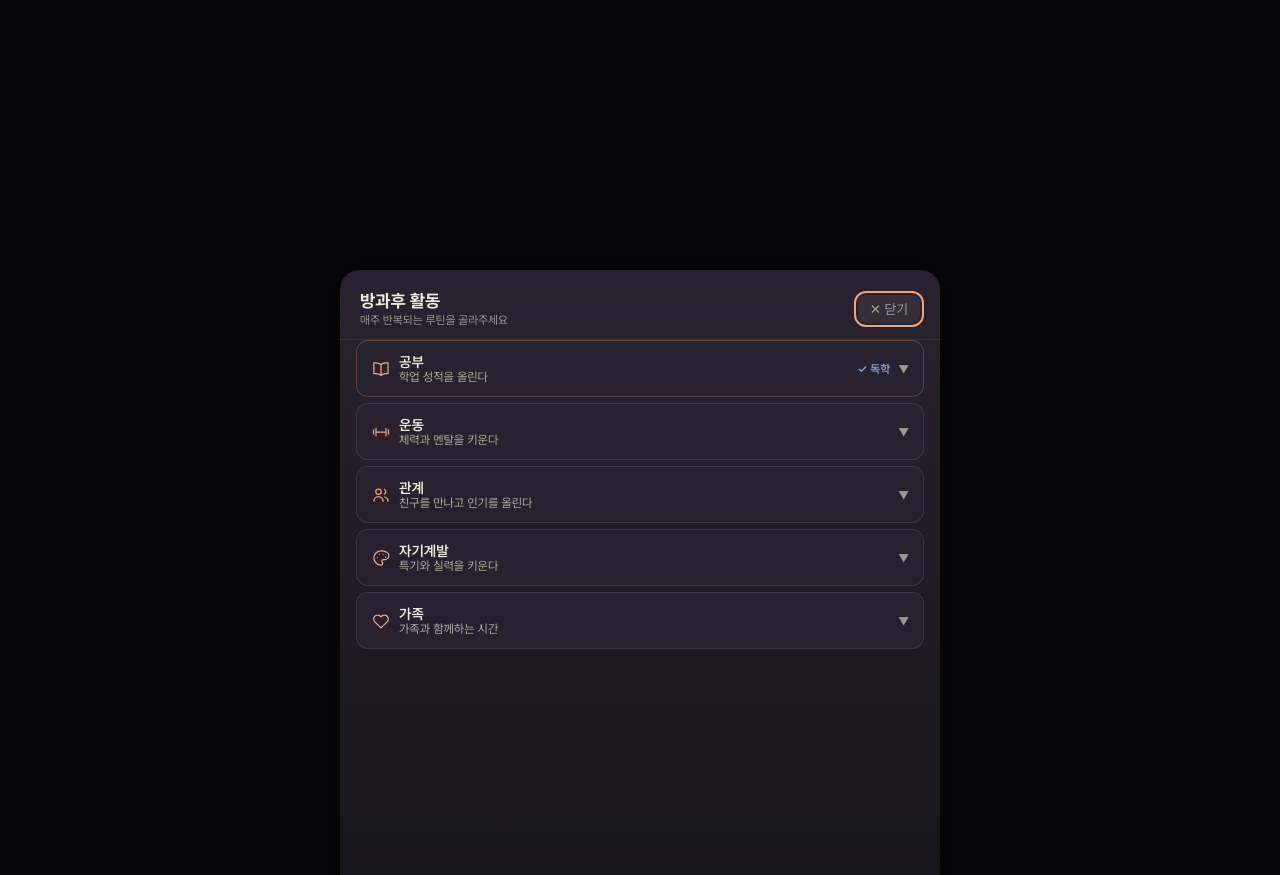
Test: 루틴 피커 — 이 선택 때문에 이번 주를 확정할 수 없게 되면 막는다(엔진 판정, 플래그 꺼짐에도 나가는 경로) › 한 달 몫이 있으면 고를 수 있다
The width and height of the screenshot is (1280, 875).
What coordinates should you click on to do the following:
click the button "공부 학업 성적을 올린다 ✓ 독학 ▼"
I would click on:
 (444, 377)
Its box is [357, 341, 923, 396].
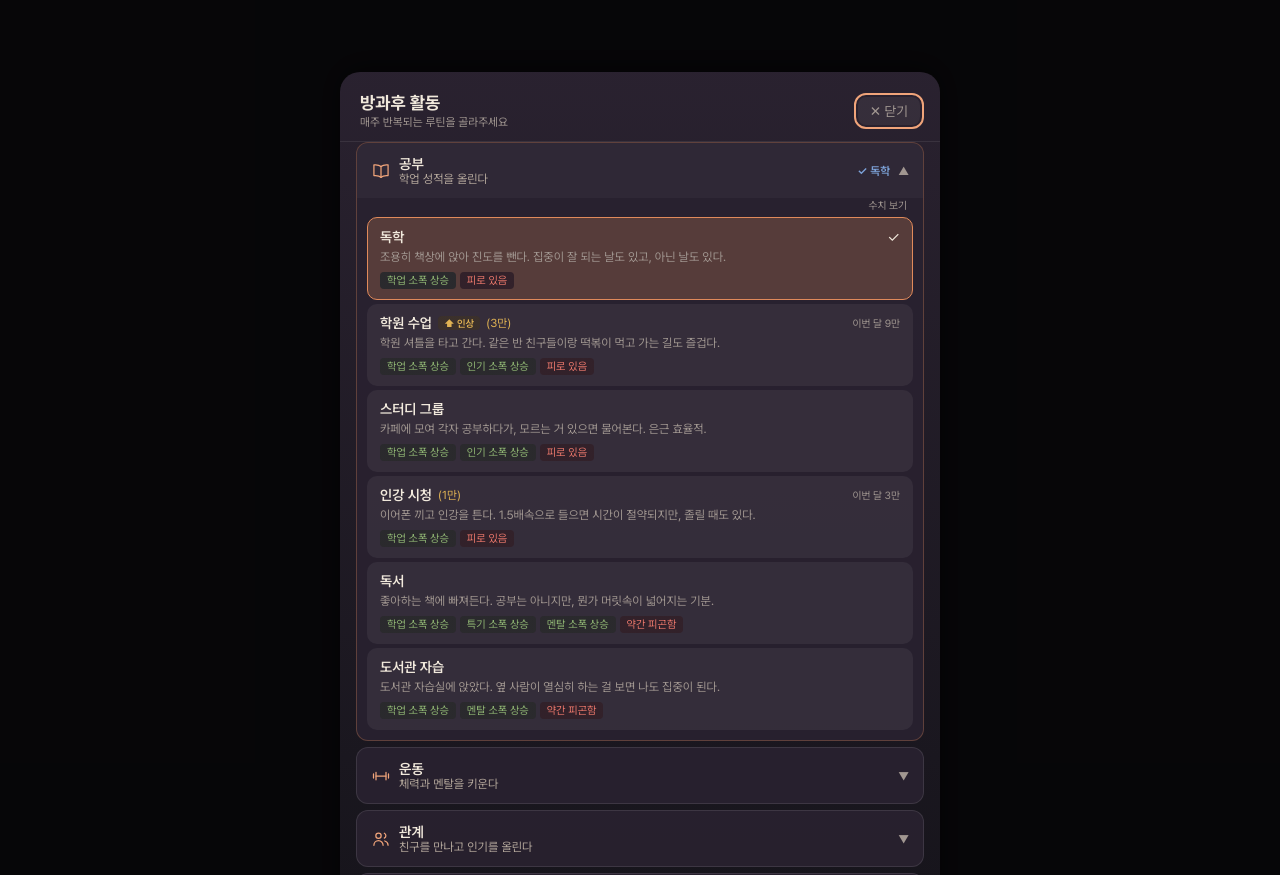
Check: the button that starts with "학원 수업" is enabled, box [367, 304, 913, 386]
